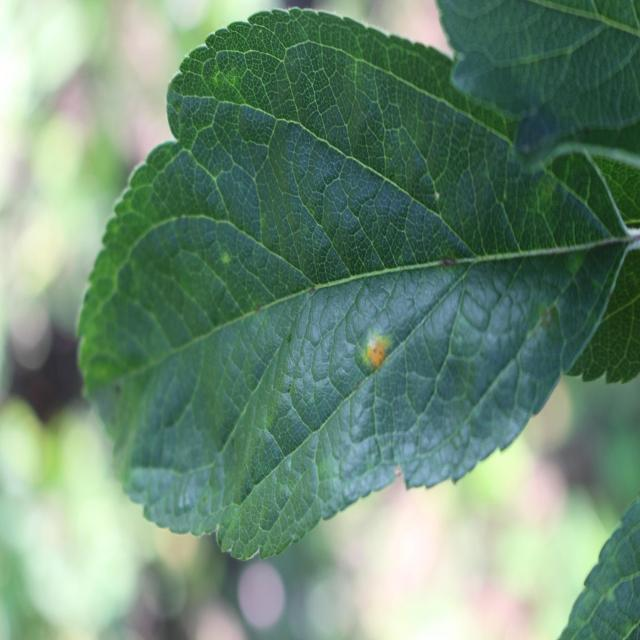Rust: (363, 325, 393, 375)
